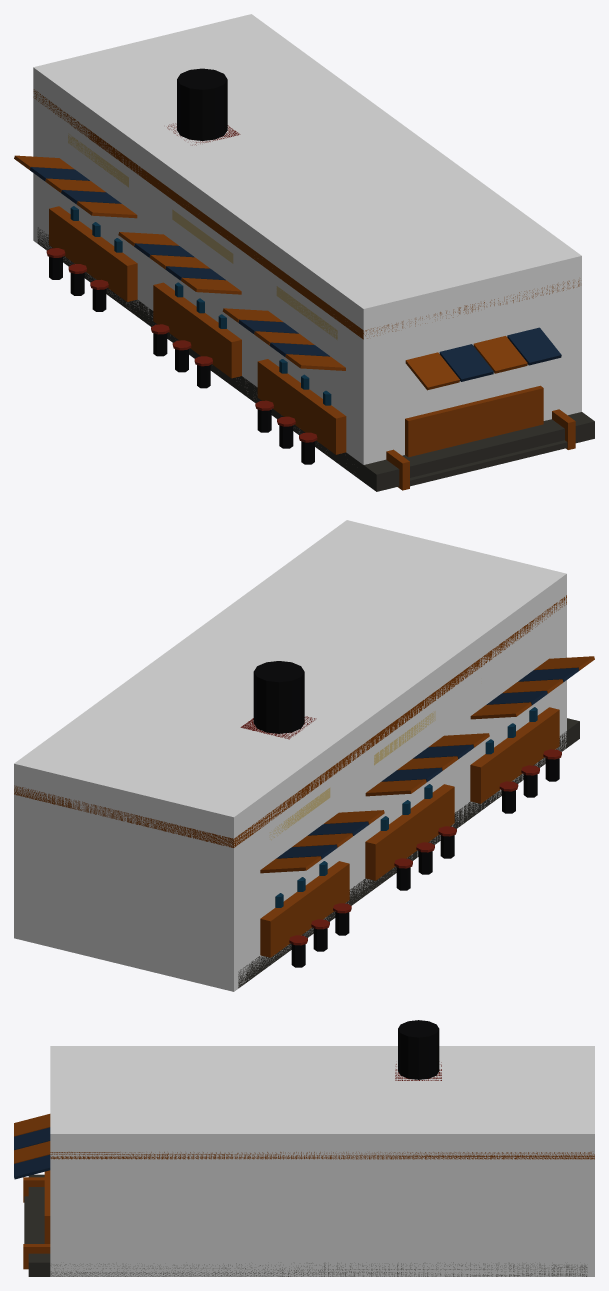
The model's file is C01_beach_stalls.glb.
3 views of the same model, one above another, from view 1: azimuth 30°, elevation 25°; view 2: azimuth 150°, elevation 25°; view 3: azimuth 270°, elevation 25° (orthographic). The views are drawn at different scales.
Visible parts, largest first — view 1: COL_Main, LOD0; view 2: COL_Main, LOD0; view 3: COL_Main, LOD0.
Boxes of the visible parts, x1,y1,x2,y2 form: COL_Main: (33, 14, 581, 473); LOD0: (14, 68, 594, 491); COL_Main: (14, 520, 566, 991); LOD0: (14, 595, 594, 988); COL_Main: (50, 1046, 594, 1276); LOD0: (14, 1020, 594, 1276).
Size of what is drawn, in the model's own units: 7.01 by 5.75 by 16.21.
